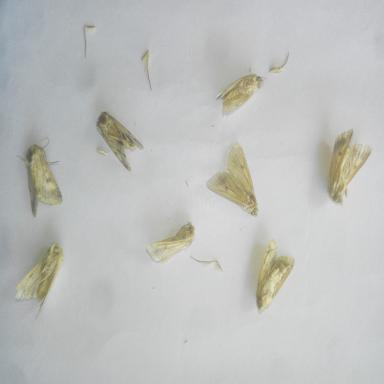abw: (204, 138, 260, 219), (13, 239, 67, 319), (15, 136, 64, 219), (325, 125, 374, 207), (254, 236, 298, 316), (95, 108, 146, 174), (144, 218, 198, 270), (213, 71, 269, 119)
